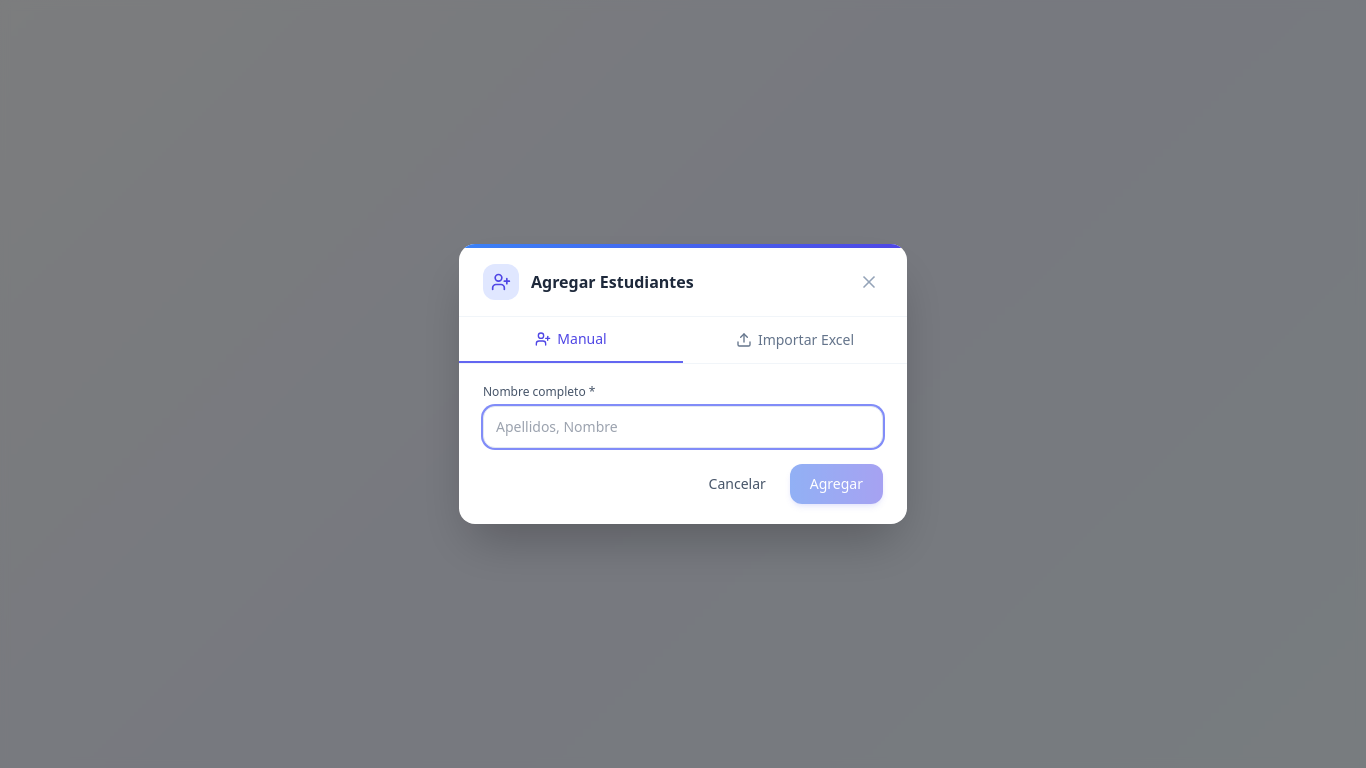
Test: ModalEstudiante › muestra error si createEstudiante falla
Type "Test Nombre" into the field with placeholder "Apellidos, Nombre".
click(683, 427); type("Test Nombre")  # box [483, 406, 883, 448]
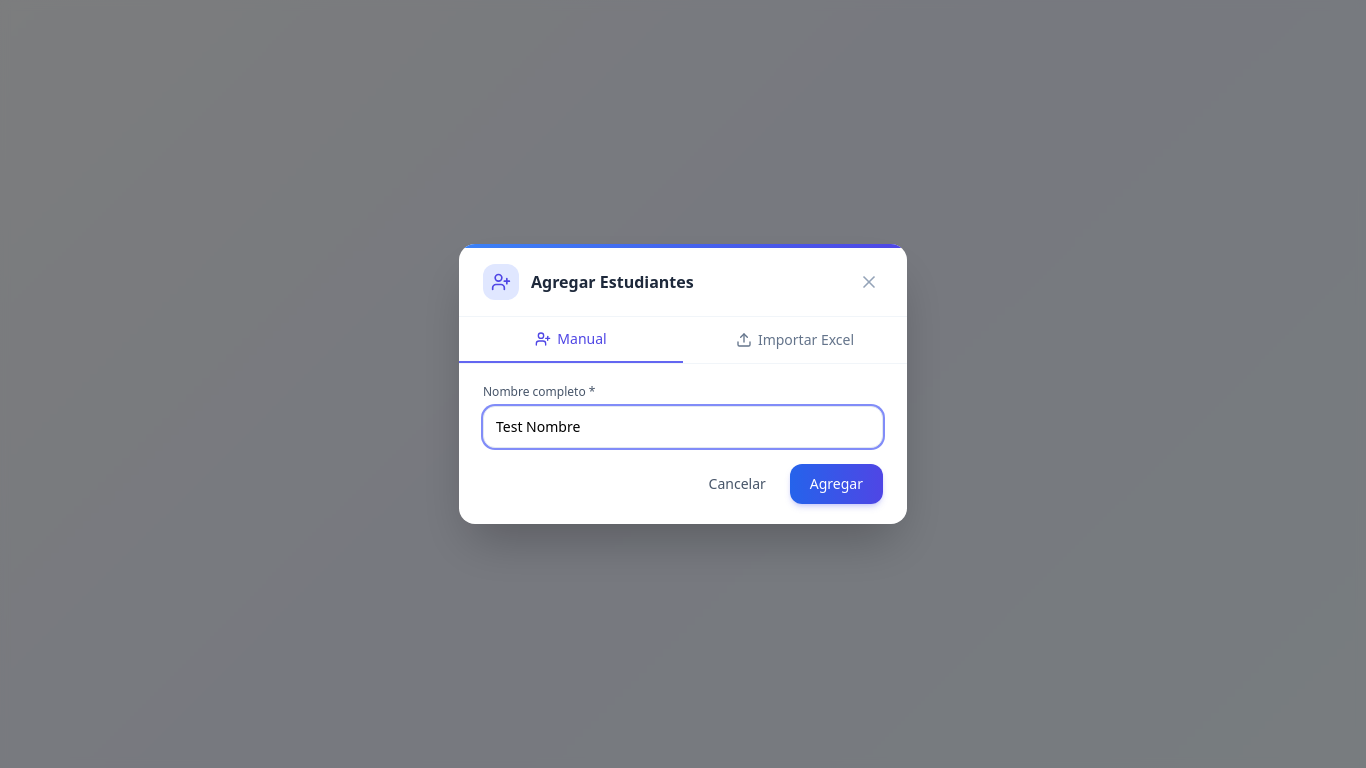
Click the button "Agregar".
click(836, 484)  # box [790, 464, 883, 504]
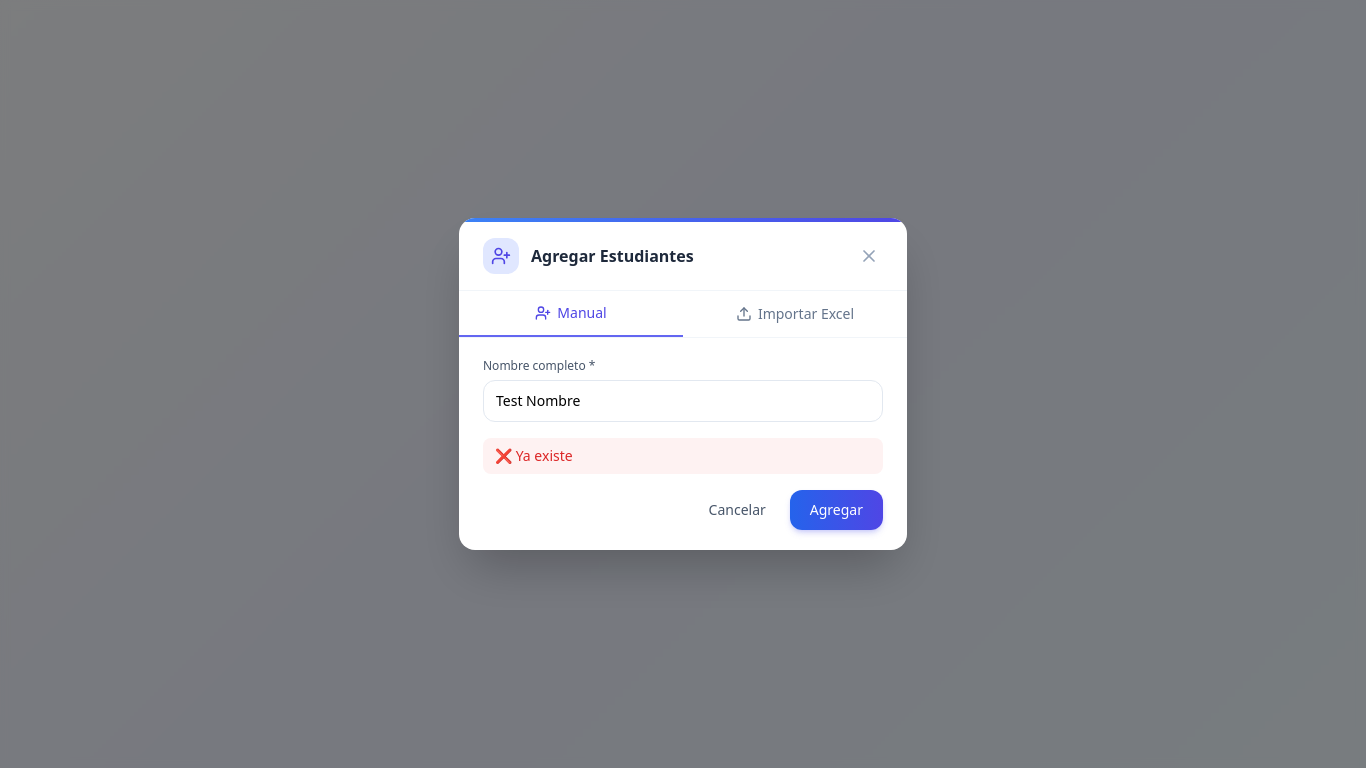
Check: the text "❌ Ya existe" is shown, box [483, 438, 883, 474]
